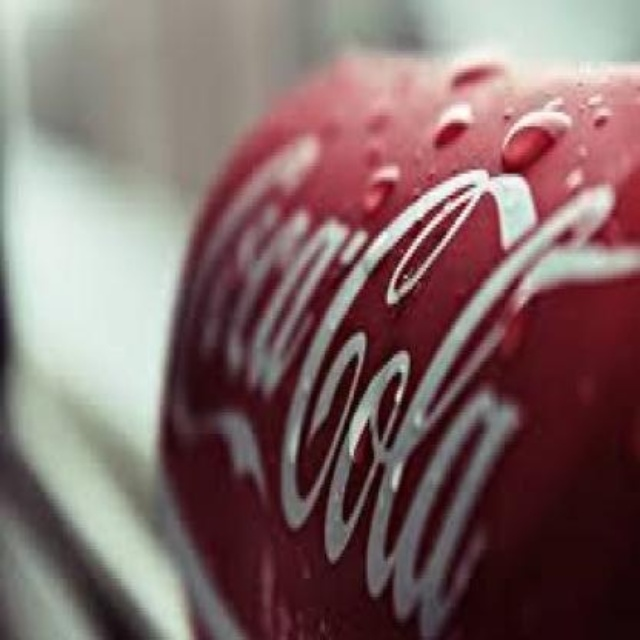trash: (162, 58, 638, 638)
